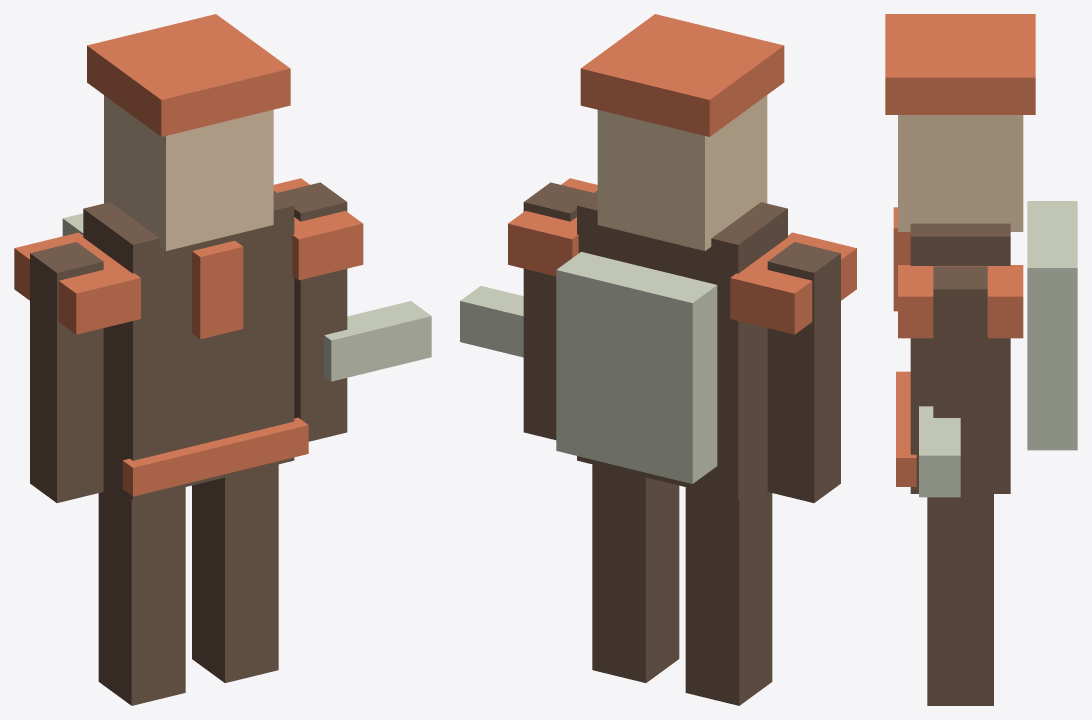
File: 15_kael_deepwell_cartographer_of_quarantine.glb
3 views of the same model, side by side, from view 1: azimuth 30°, elevation 25°; view 2: azimuth 150°, elevation 25°; view 3: azimuth 270°, elevation 25° (orthographic).
Visible parts, largest first — view 1: Kael Deepwell, Cartographer of Quarantine; view 2: Kael Deepwell, Cartographer of Quarantine; view 3: Kael Deepwell, Cartographer of Quarantine.
Part boxes in pixels (left/top/right/bottom): Kael Deepwell, Cartographer of Quarantine: left=14, top=14, right=431, bottom=705; Kael Deepwell, Cartographer of Quarantine: left=460, top=14, right=856, bottom=705; Kael Deepwell, Cartographer of Quarantine: left=885, top=14, right=1077, bottom=705.
Size of the model in its own units: 0.9479 by 1.53 by 0.4254.
